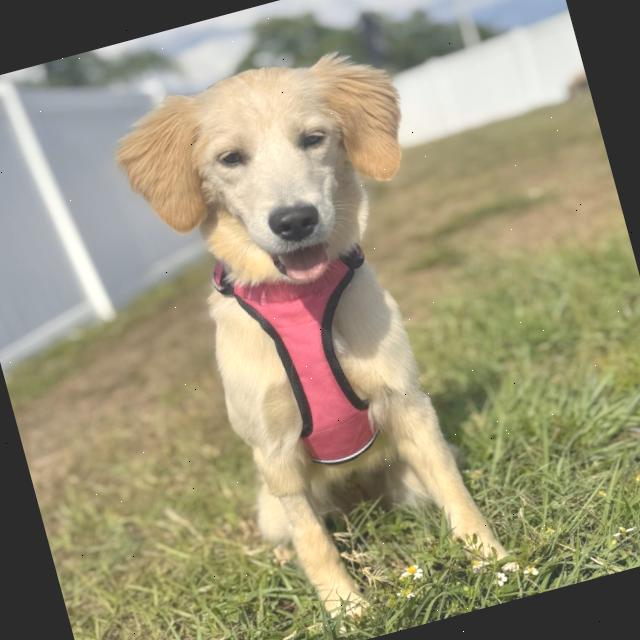golden_retriever_dog: (96, 26, 453, 338)
